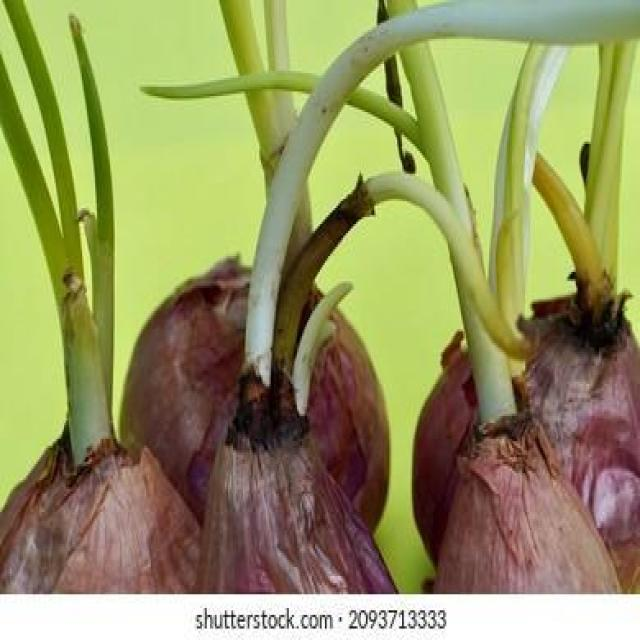Onion: (141, 0, 517, 421), (248, 0, 640, 386), (118, 252, 389, 559), (413, 270, 640, 583), (0, 0, 115, 462), (197, 389, 399, 601), (428, 408, 622, 595), (2, 418, 204, 592), (219, 0, 314, 299), (533, 41, 637, 297), (292, 282, 356, 417)
